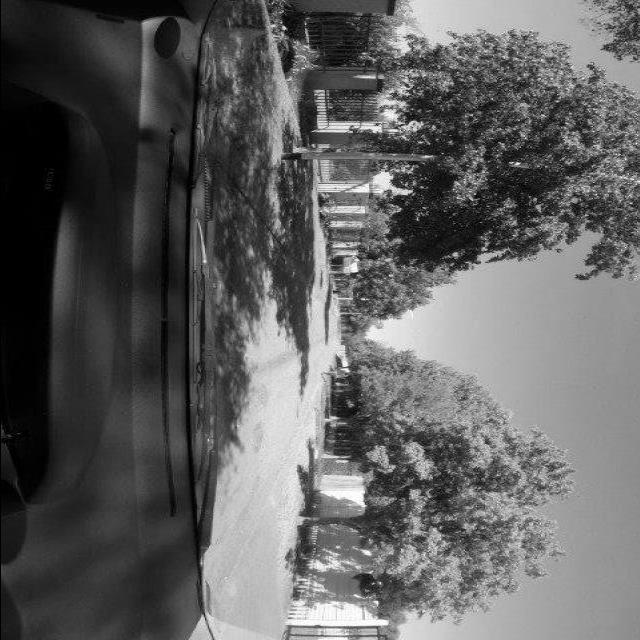lubang: (250, 384, 276, 410), (252, 423, 264, 447)
